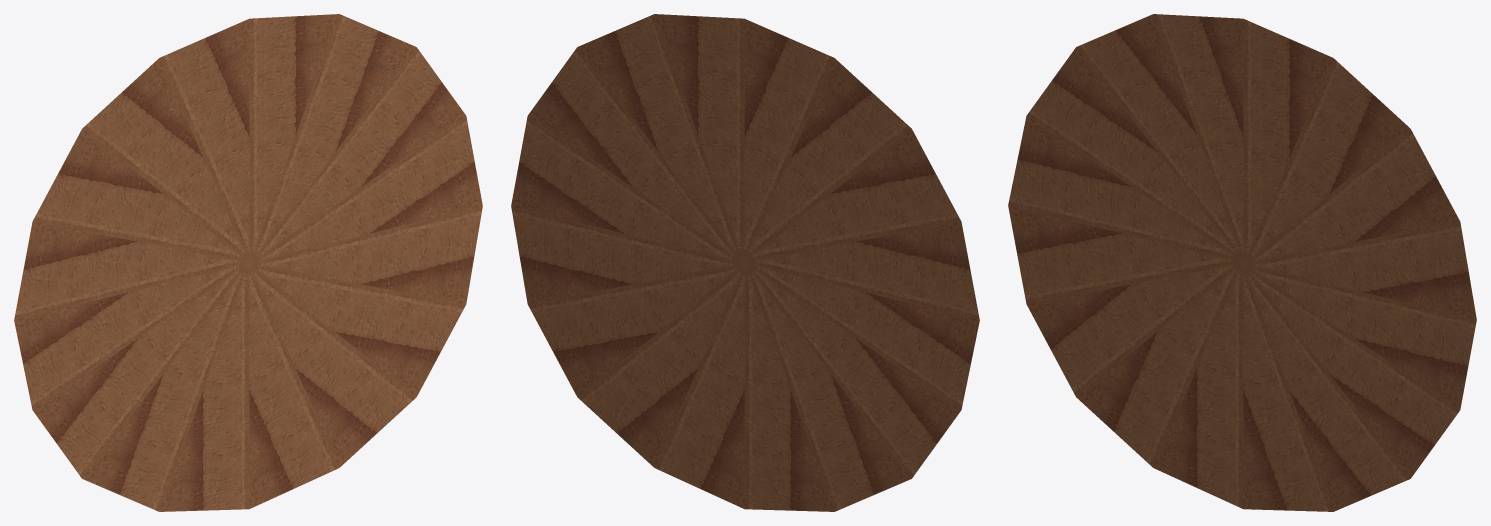
Rendered from sun-iris-door-lod1.glb.
3 renders of one model, left to right at view 1: azimuth 30°, elevation 25°; view 2: azimuth 150°, elevation 25°; view 3: azimuth 330°, elevation 25°, orthographic.
Visible parts, largest first — view 1: sun-iris-door-lod1; view 2: sun-iris-door-lod1; view 3: sun-iris-door-lod1.
Boxes of the visible parts, box(x1,y1,x2,y2) form: sun-iris-door-lod1: box(14, 14, 482, 511); sun-iris-door-lod1: box(511, 14, 979, 511); sun-iris-door-lod1: box(1008, 14, 1476, 511).
Bounding box in the file's own units: 7.97 × 7.97 × 0.
1 material, 1 textured.
